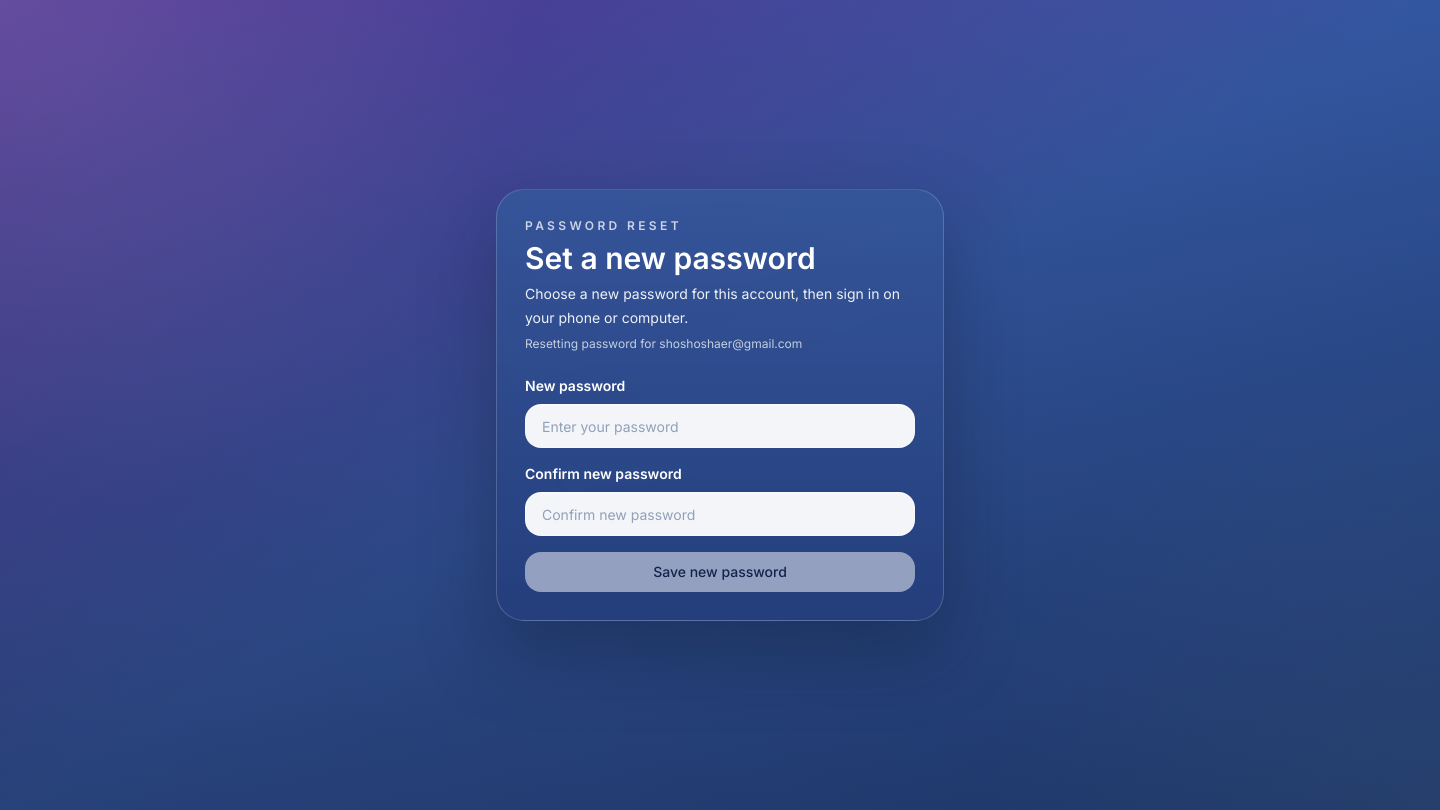
PasswordResetScreen › allows a valid reset link to set a new password
expect the text "Resetting password for shoshoshaer@gmail.com" is shown: met, box 525,336 -> 802,351
Type "NewPassword123" into the password field labelled "New password" at x=720, y=426, box 525,404 -> 915,448
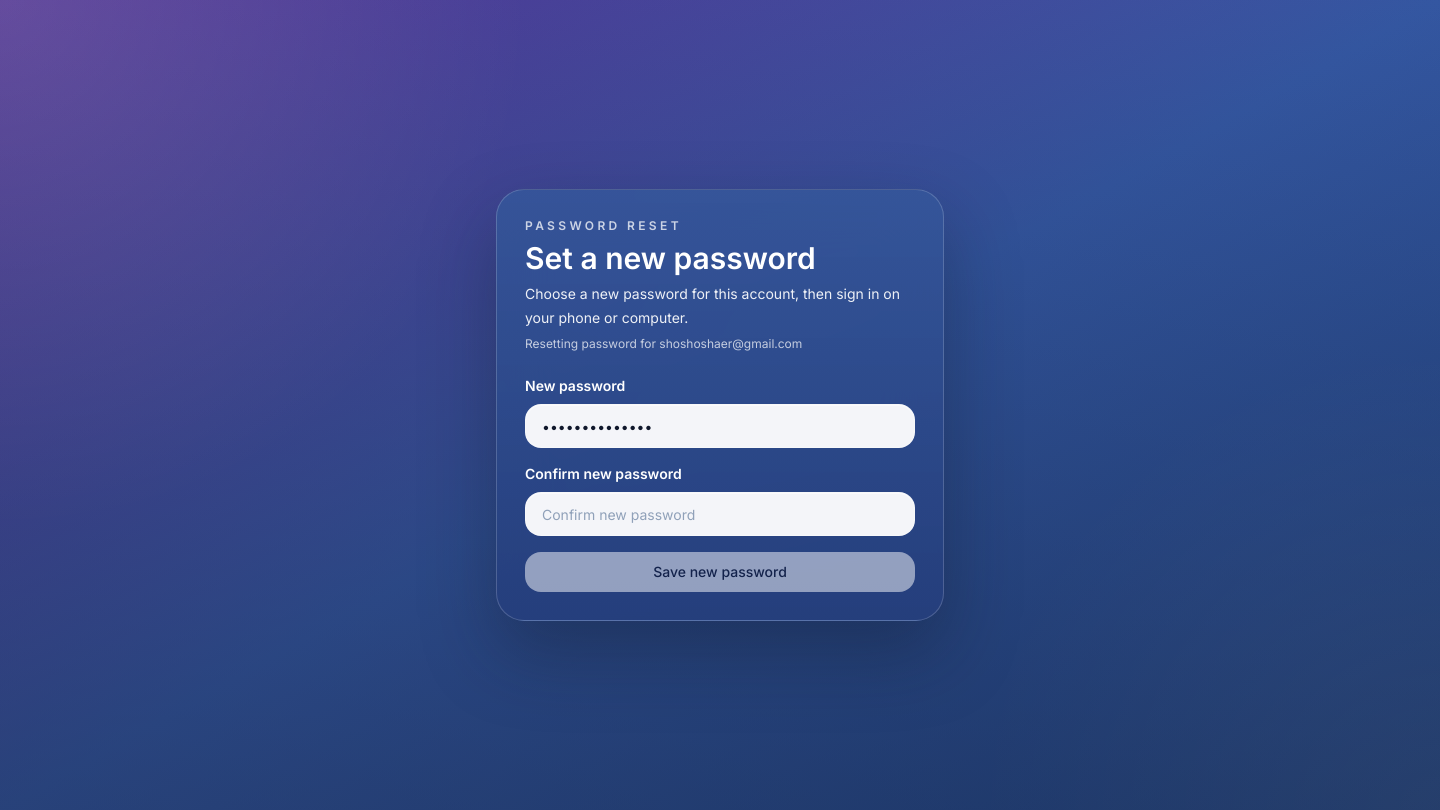
Type "NewPassword123" into the password field labelled "Confirm new password" at x=720, y=514, box 525,492 -> 915,536
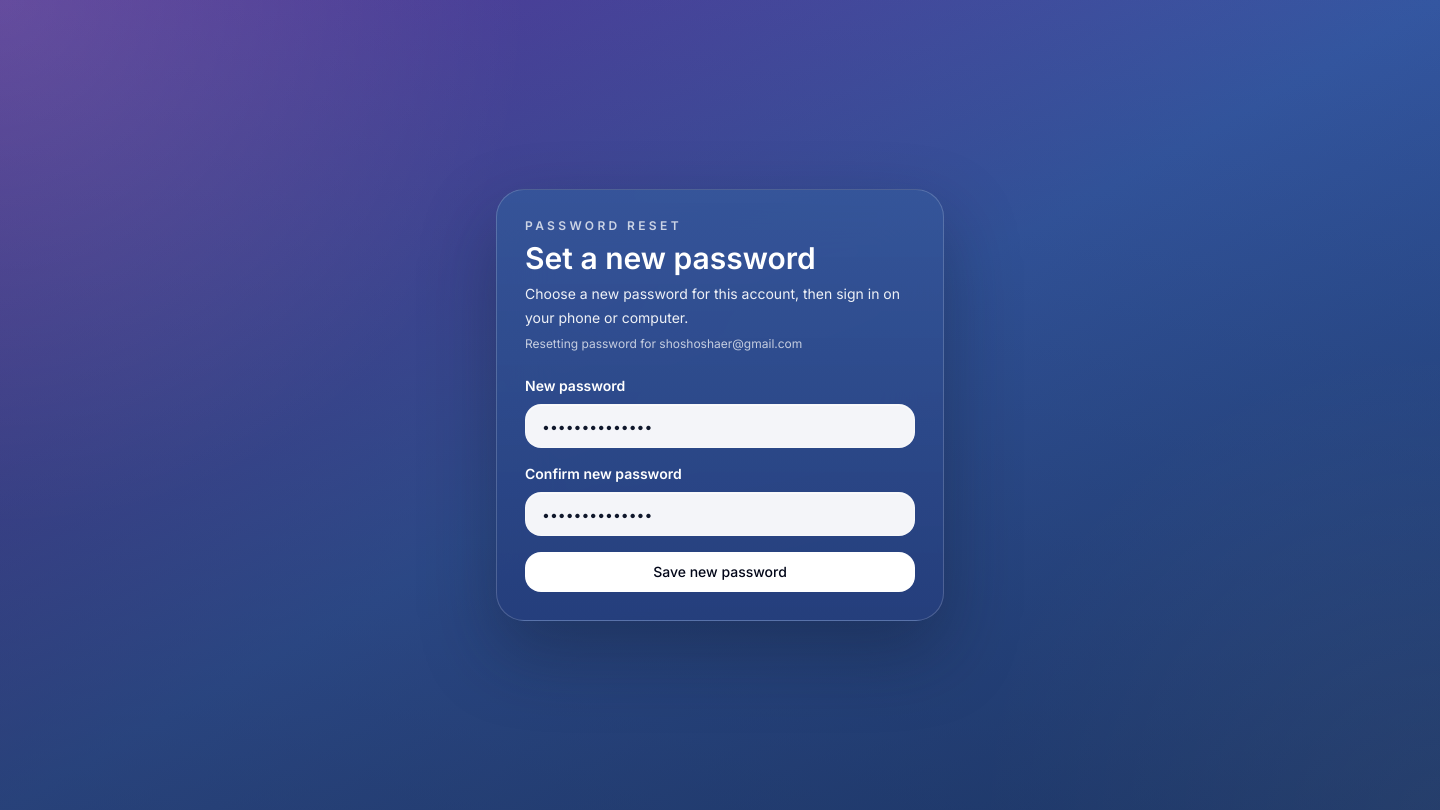
Submit the form "Save new password", box 525,376 -> 915,592
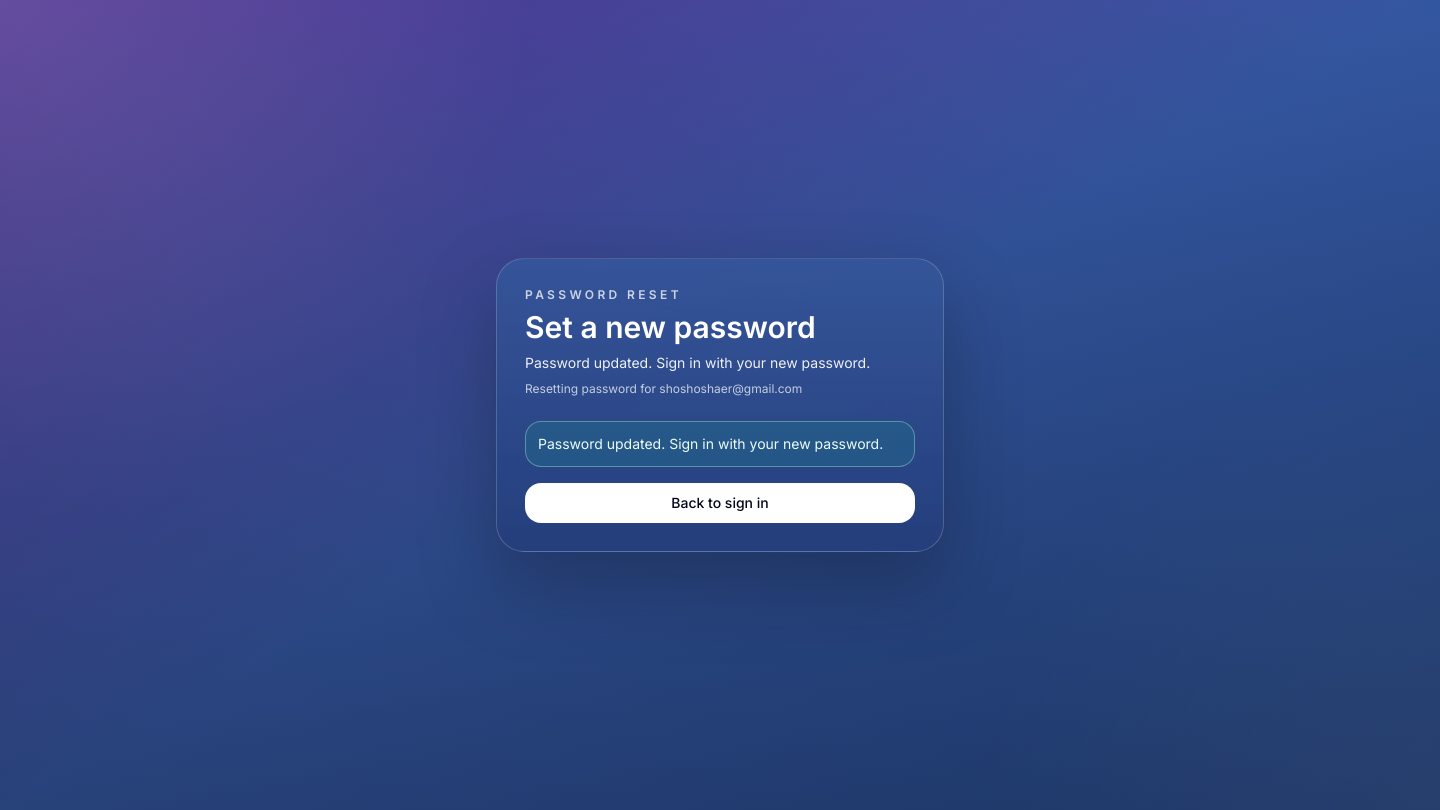
expect the text "Password updated. Sign in with your new password." below "Set a new password" is shown: met, box 525,354 -> 870,371
